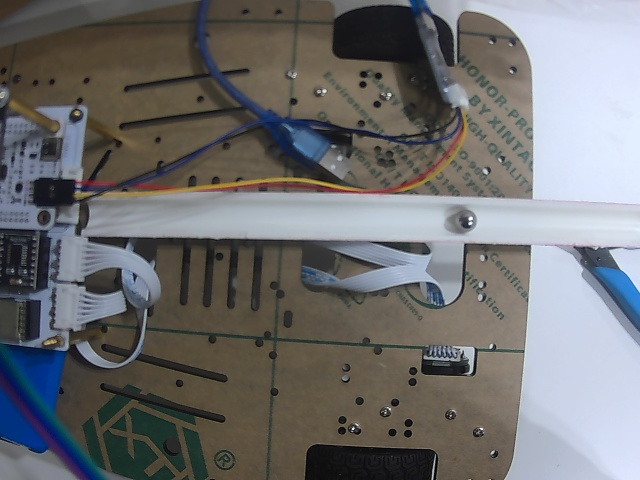steelball: (455, 210, 477, 230)
